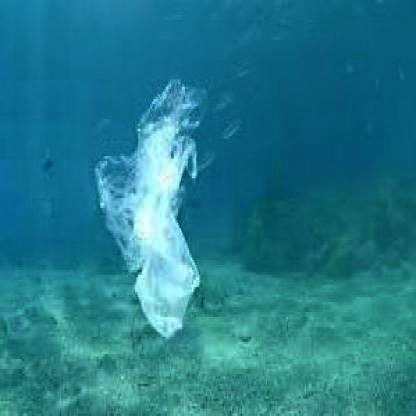pbag: (92, 76, 206, 341)
